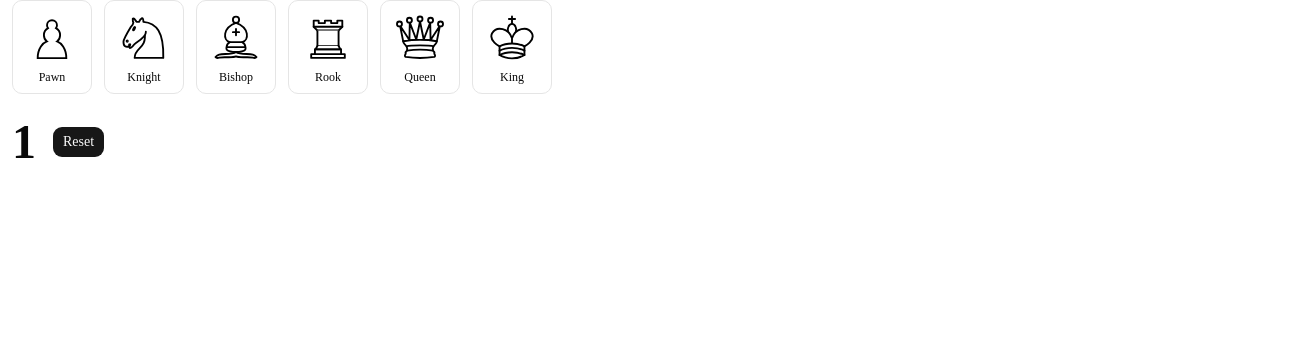
Scenario: <PieceValuesTraining /> › only shows the Check button once the answer is non-empty
Expected: the button "check answer" is not shown
Click the picture with alt text "Pawn" at (52, 37), box x1=24 y1=9 x2=80 y2=65
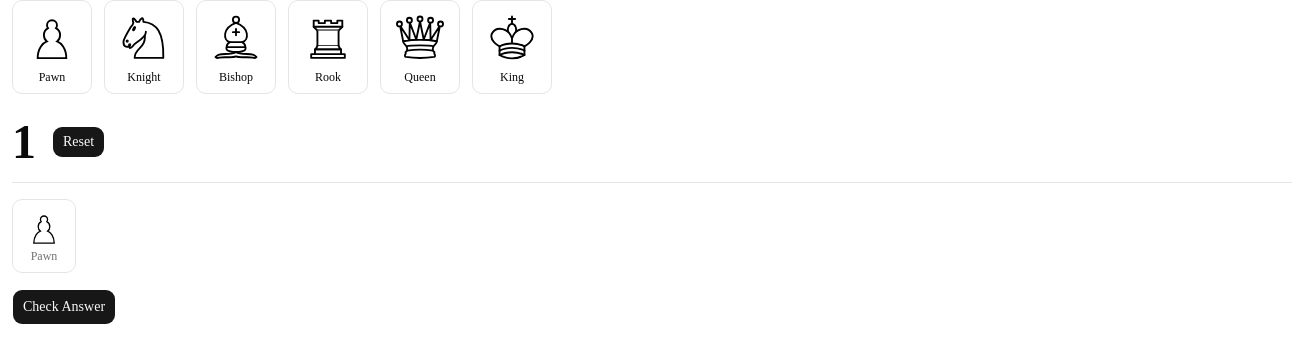
Now the button "Check Answer" is shown, box x1=12 y1=289 x2=116 y2=325
